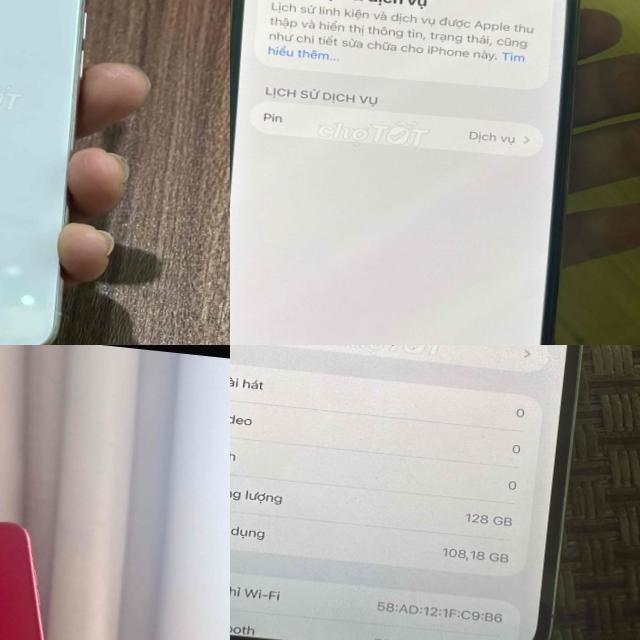gen_14: (230, 0, 614, 345), (230, 345, 609, 640)
gen_7_8: (0, 499, 100, 640)
gen_x_xs: (0, 0, 118, 345)
